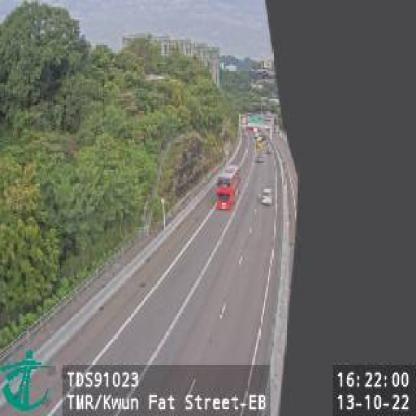Bus: (216, 163, 242, 212)
Car: (260, 187, 274, 206)
